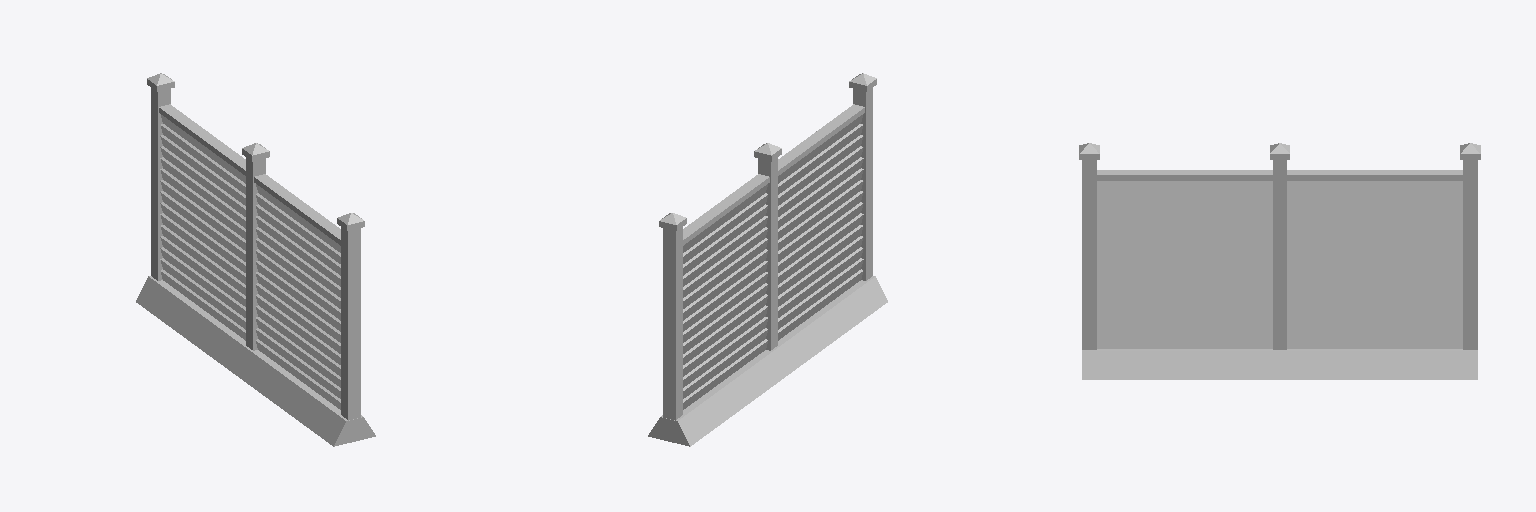
Rendered from Fence.obj.
The picture shows the model from 3 angles: view 1: azimuth 30°, elevation 25°; view 2: azimuth 150°, elevation 25°; view 3: azimuth 270°, elevation 25°; orthographic projection.
Parts seen in each view (by area): view 1: Fence_Cube.005; view 2: Fence_Cube.005; view 3: Fence_Cube.005.
Boxes of the visible parts, x1=… form: Fence_Cube.005: x1=136, y1=73, x2=375, y2=446; Fence_Cube.005: x1=648, y1=73, x2=887, y2=446; Fence_Cube.005: x1=1079, y1=143, x2=1480, y2=379.
Size of the model in its own units: 2 by 10.07 by 16.2.